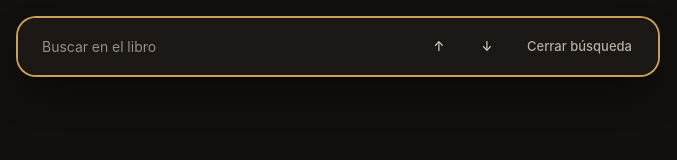
Test: SearchBar › shows the match in focus out of all matches
The width and height of the screenshot is (677, 160).
In the search field: (216, 46) [34,28,397,65], type "acción"
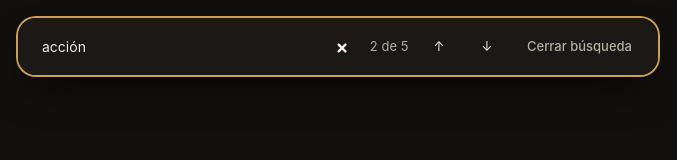
expect the text "2 de 5" is shown: met, box [370,37,409,56]
